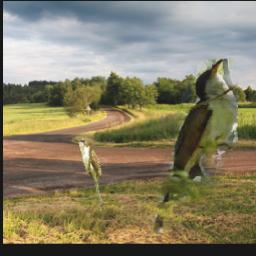Cuckoo: (152, 59, 238, 233), (75, 138, 101, 211)
